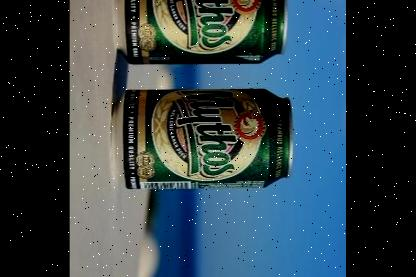Can: (110, 90, 296, 191), (114, 0, 289, 66)
